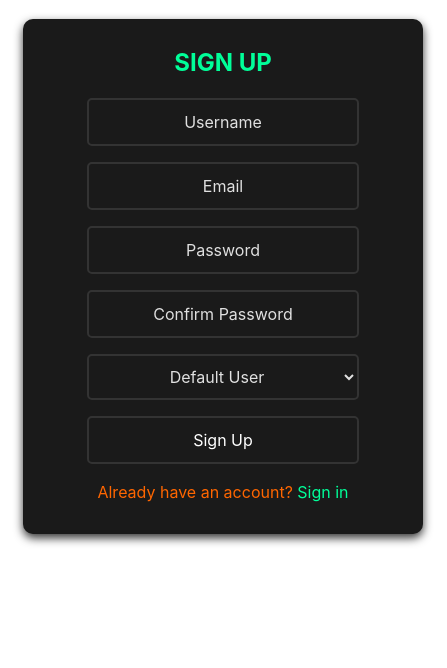
Scenario: SignUpForm Component › displays non-field errors from the API
This screenshot has width=447, height=668.
Type "testuser" into the field with placeholder "Username" at (223, 122), box [87,98,359,146]
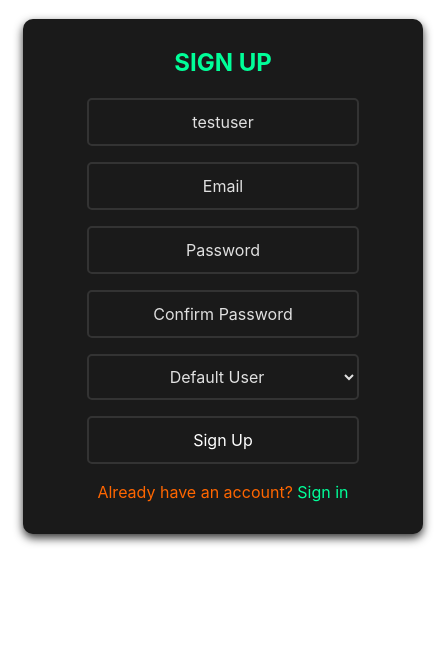
Type "test@example.com" into the field with placeholder "Email" at (223, 186), box [87,162,359,210]
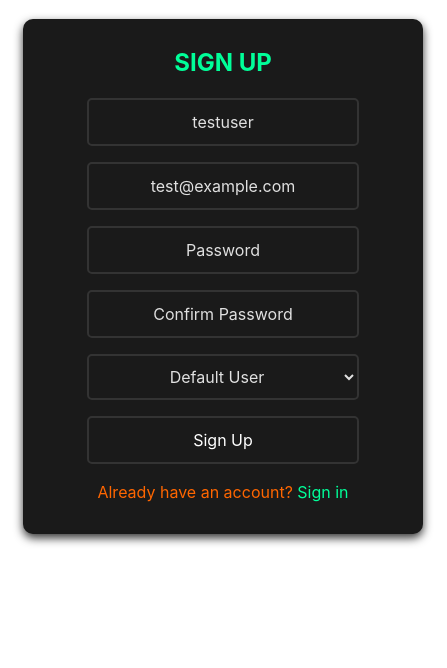
Type "Test@1234" into the password field with placeholder "Password" at (223, 250), box [87,226,359,274]
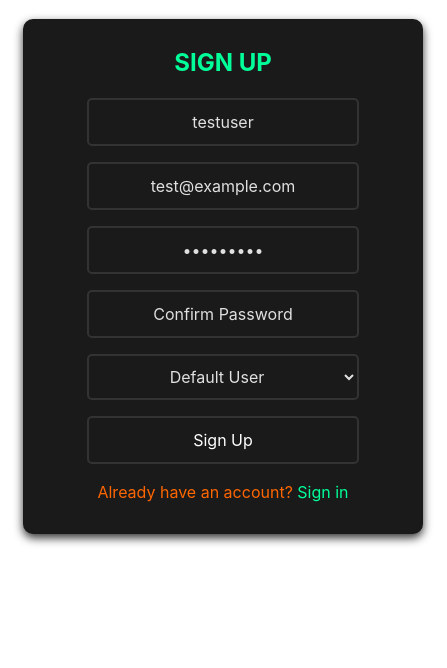
Type "Test@1234" into the password field with placeholder "Confirm Password" at (223, 314), box [87,290,359,338]
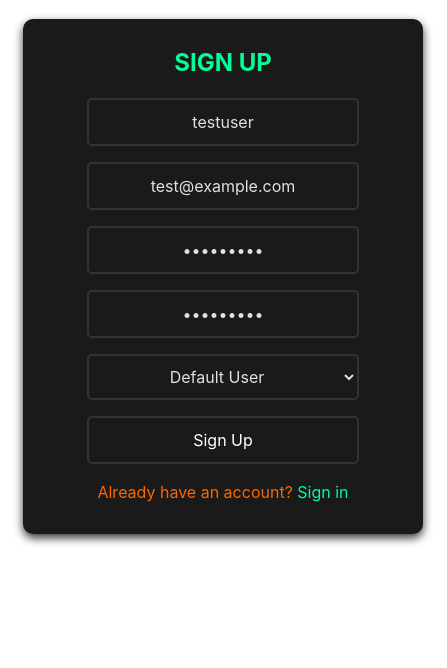
Click the button "Sign Up" at (223, 440), box [87,416,359,464]
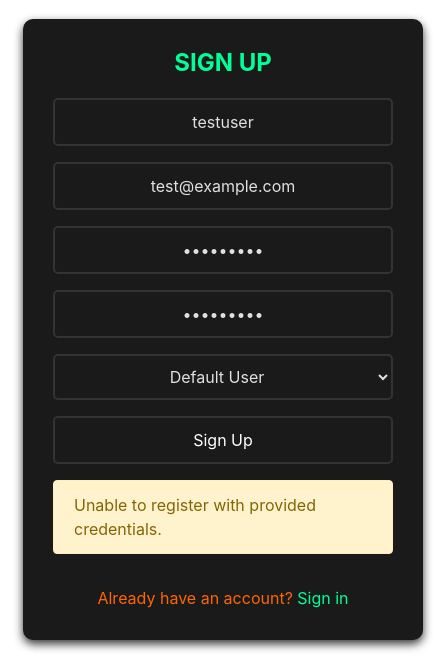
Check: the text "Unable to register with provided credentials." is shown, box [53,480,393,554]
